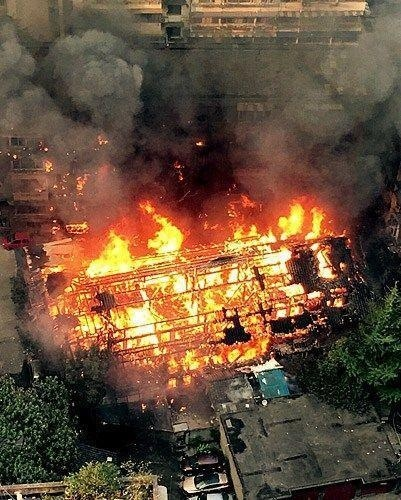fire: (39, 195, 352, 380)
